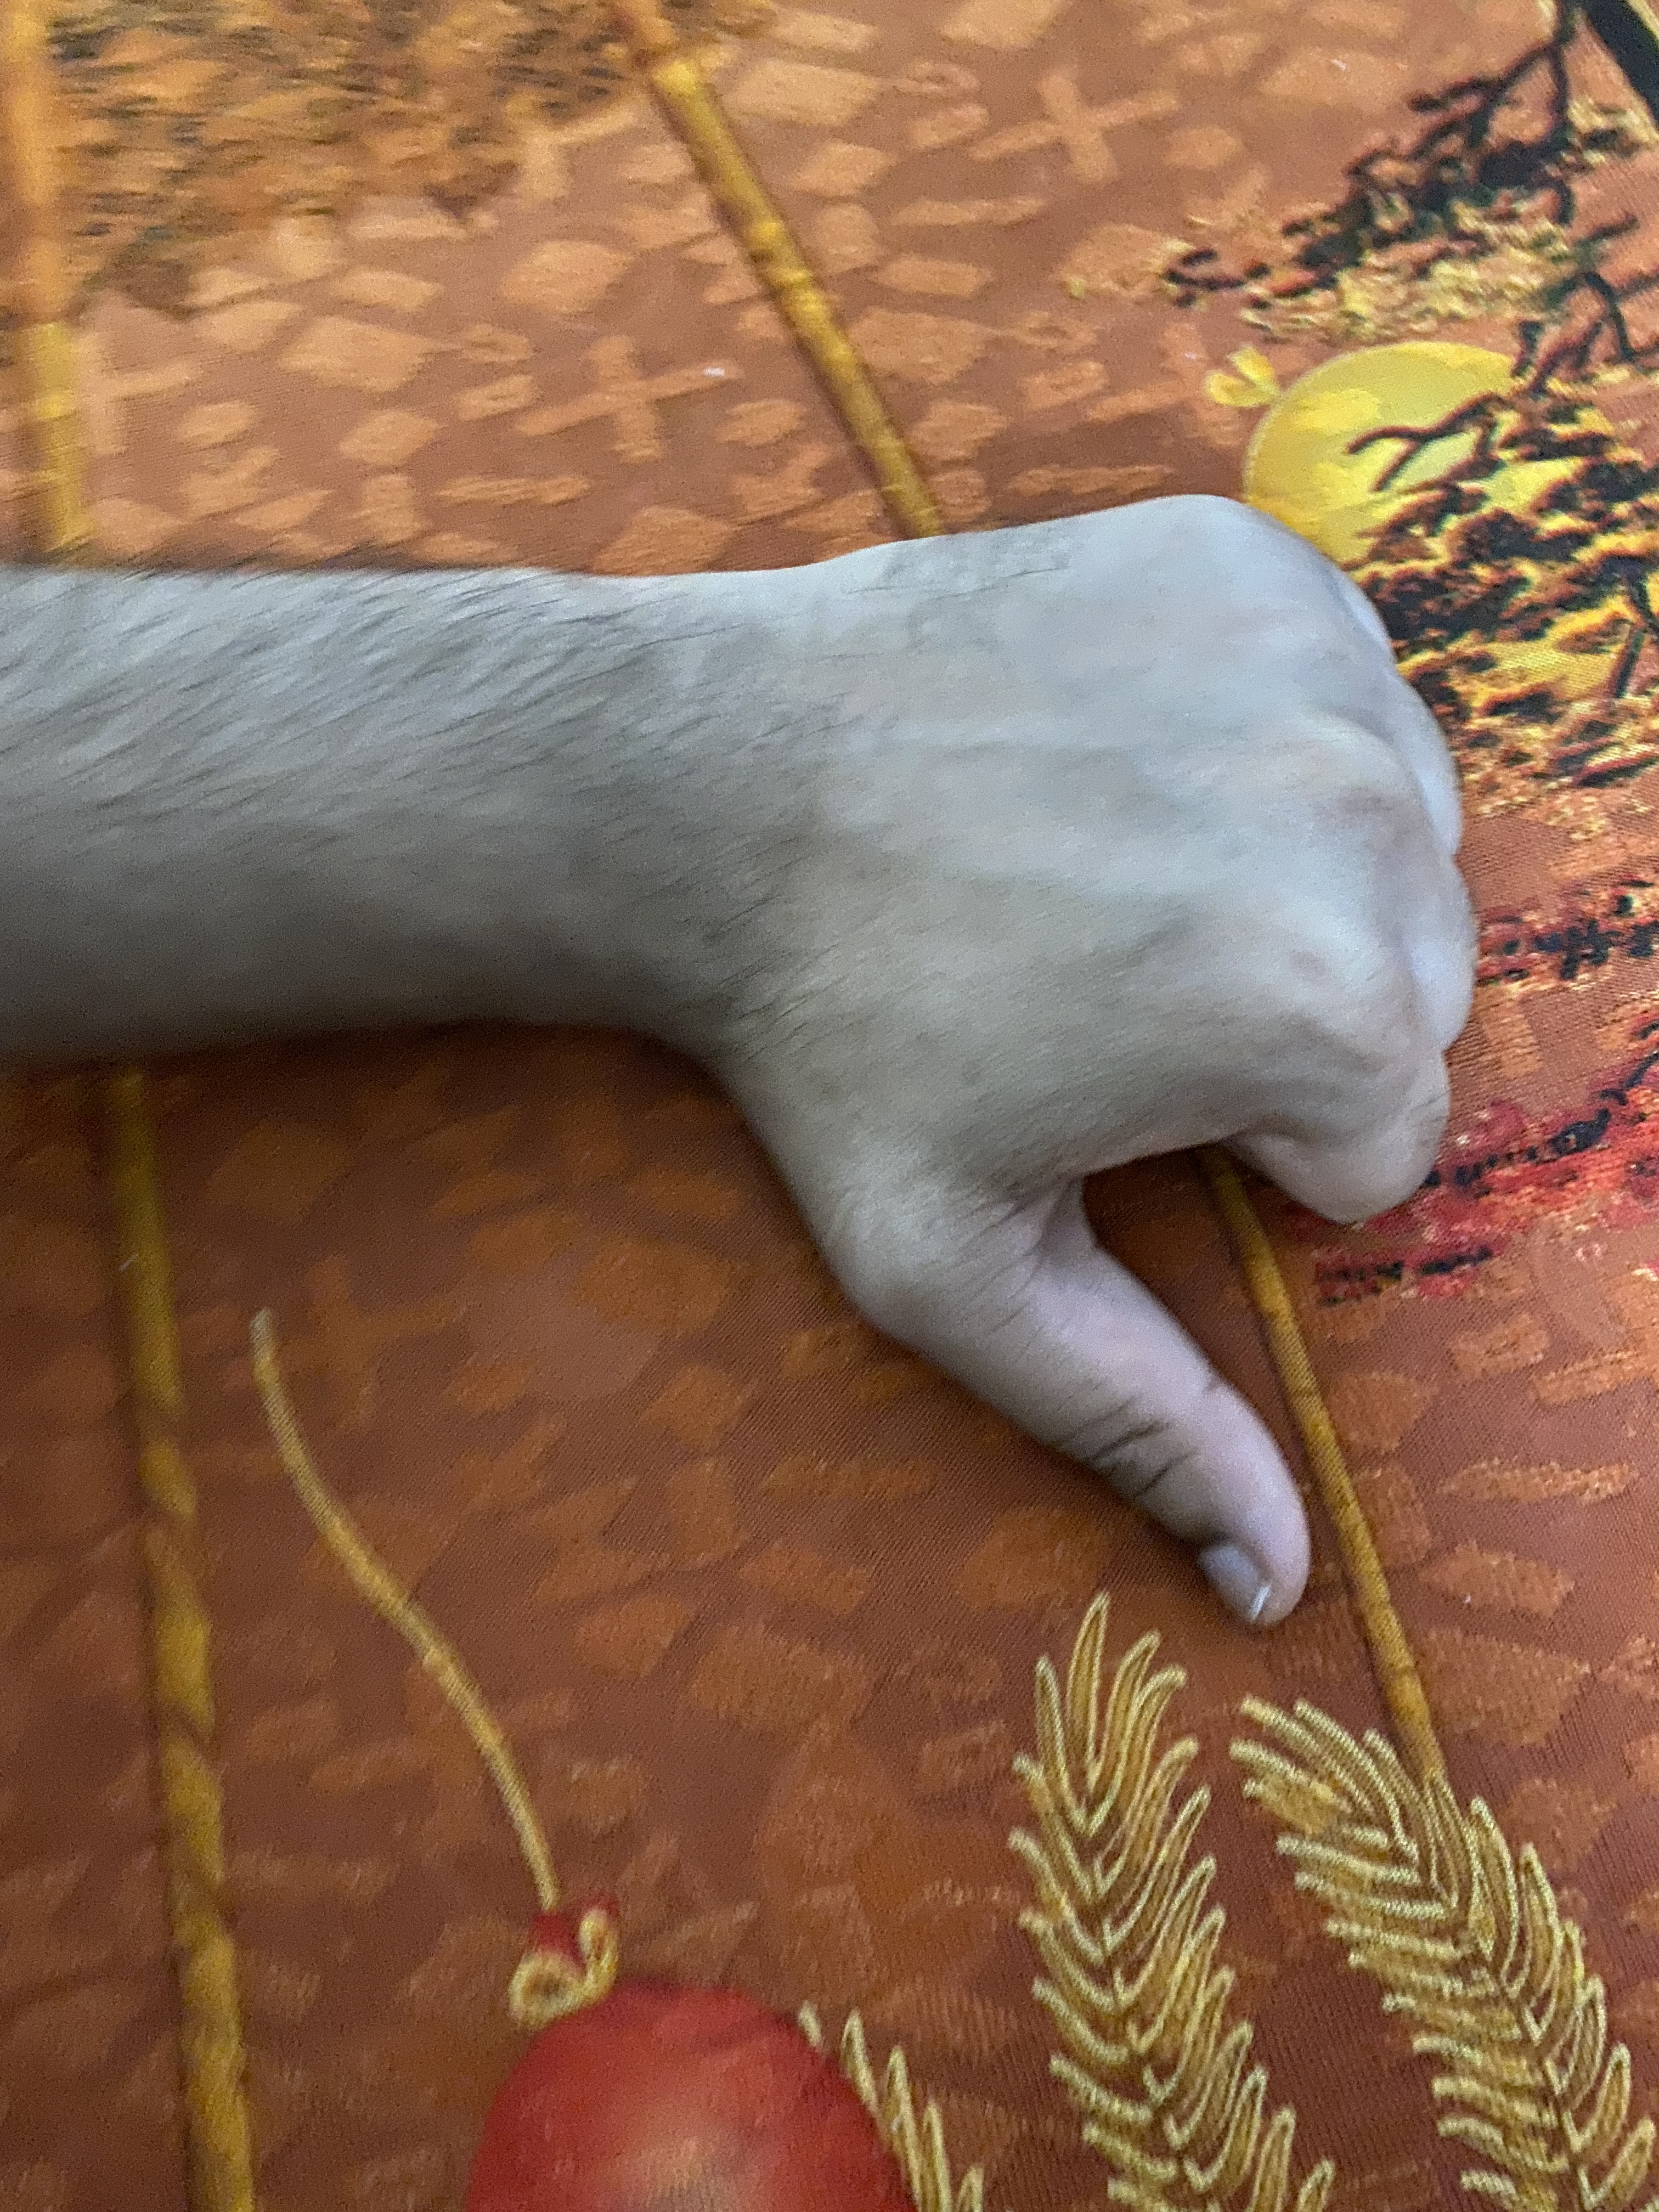down: (2, 343, 1530, 1731)
